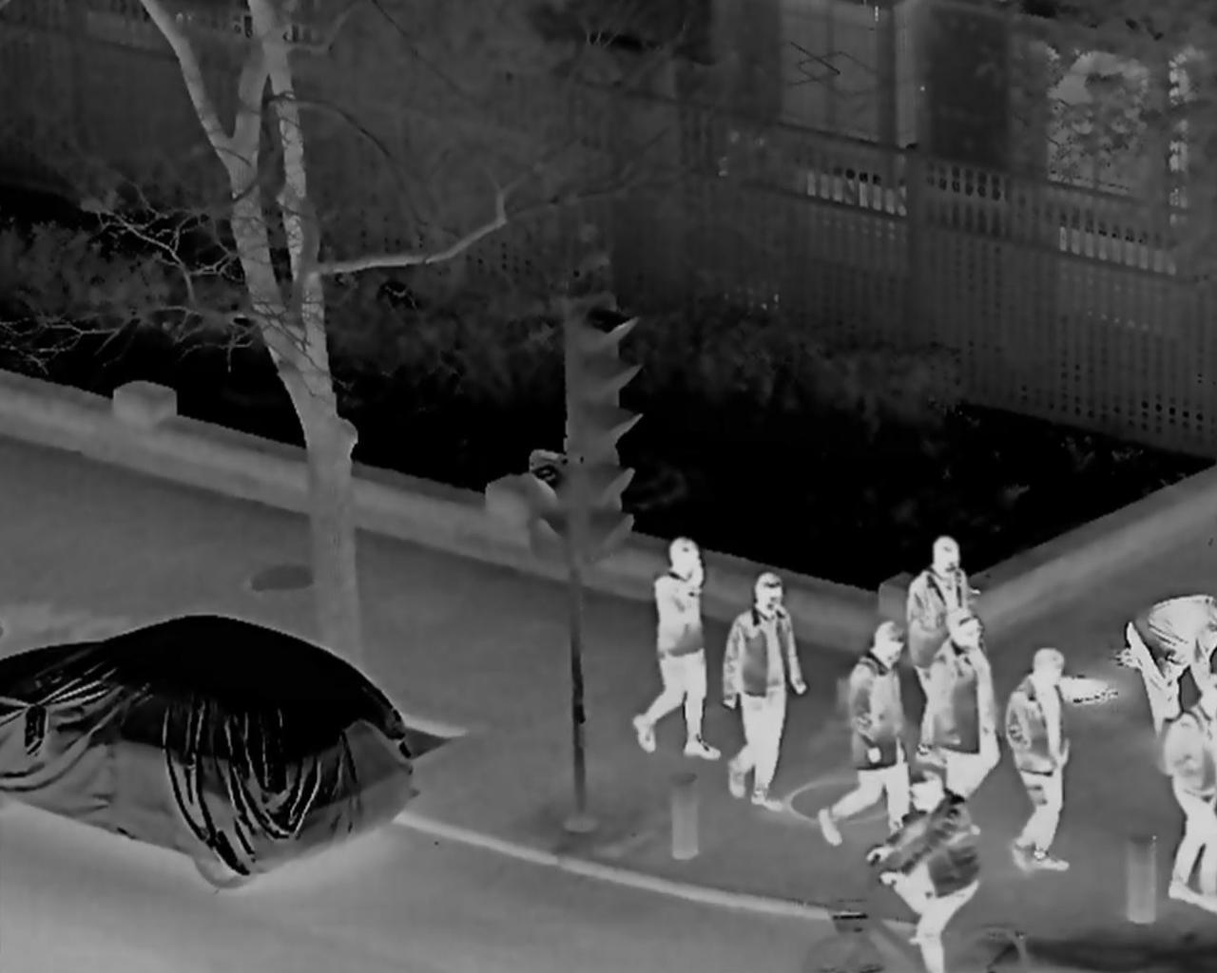person: (870, 772, 984, 973), (999, 650, 1091, 875), (821, 621, 911, 849), (632, 537, 721, 763), (722, 571, 804, 812), (1123, 590, 1217, 783), (926, 613, 1001, 840), (907, 538, 967, 761), (1157, 681, 1214, 912)
